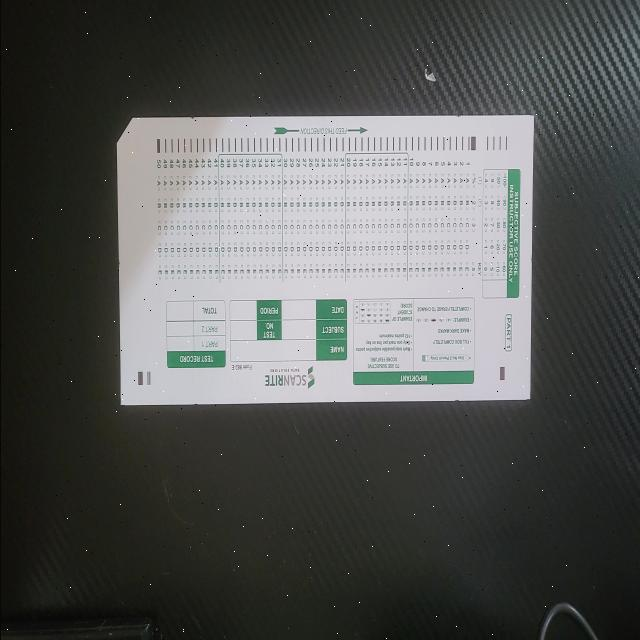scantron: (116, 117, 534, 405)
